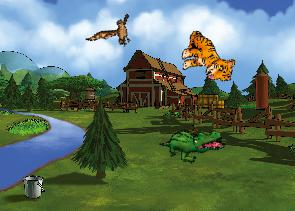crocodile: (158, 114, 227, 173)
eagle: (85, 3, 143, 62)
tiger: (177, 29, 239, 84)
